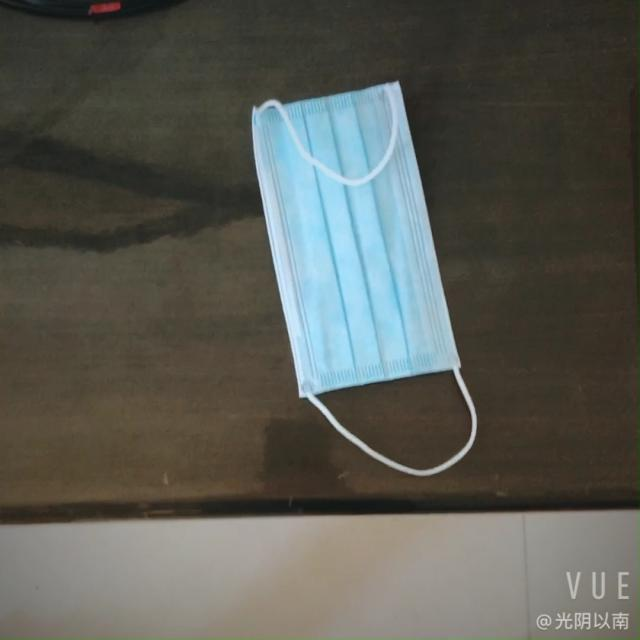face mask: (230, 72, 474, 406)
